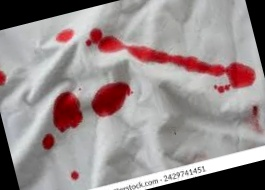blood: (133, 21, 258, 113), (87, 78, 136, 118), (49, 90, 85, 133), (88, 24, 127, 58), (39, 133, 58, 152), (56, 29, 74, 44), (0, 67, 9, 87), (69, 170, 80, 182)
